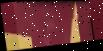scratch: (12, 0, 94, 50)
